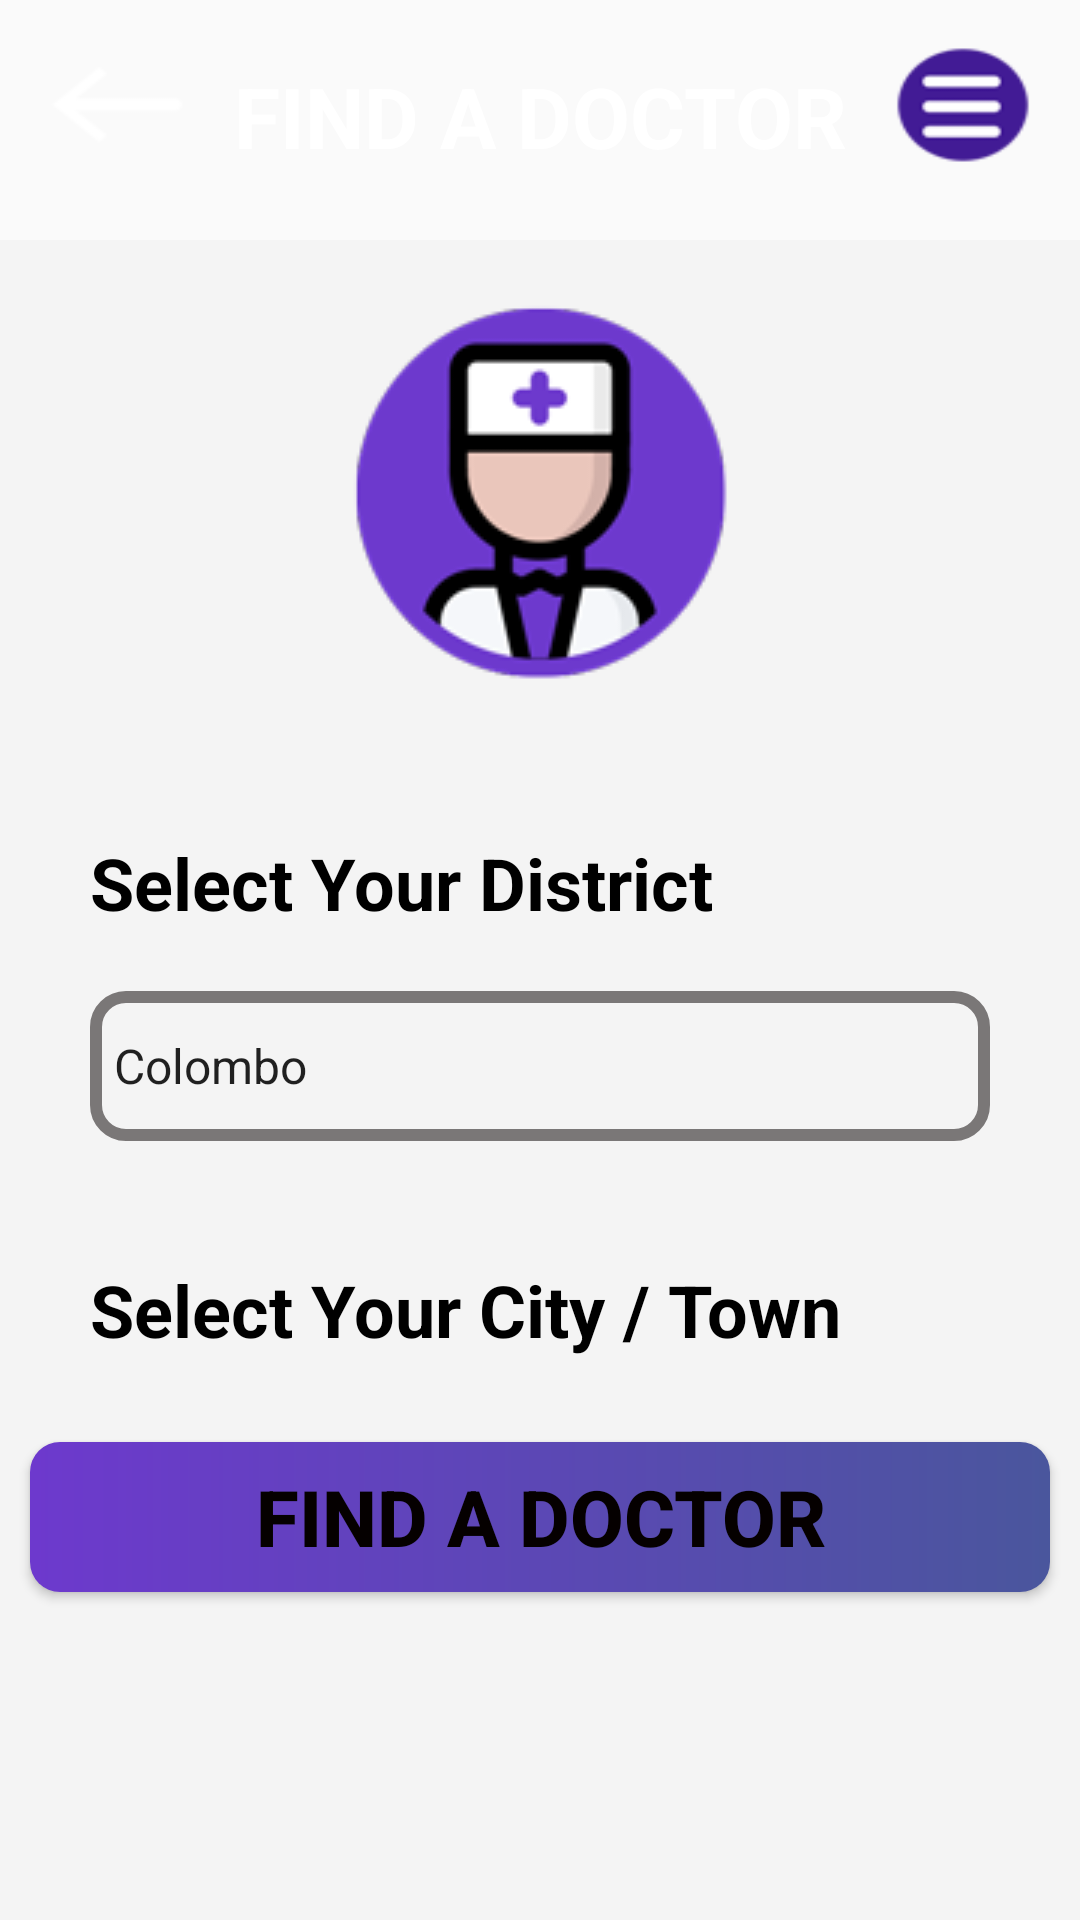

Icon click points for this 1080×1920 phone screenshot, format [x,y]:
menu: [963,105]
